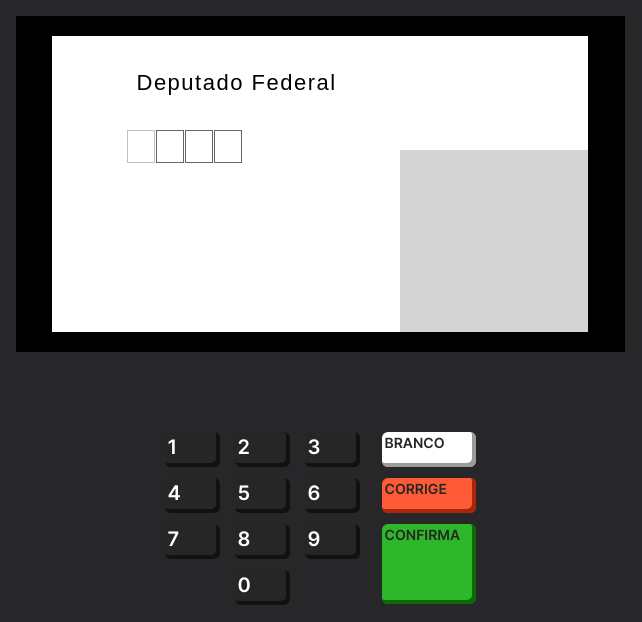
it: Special Voting Cases Tests › Should correct a vote
Click the button with test id "blank-vote-button" at (429, 450), box [382,432,476,467]
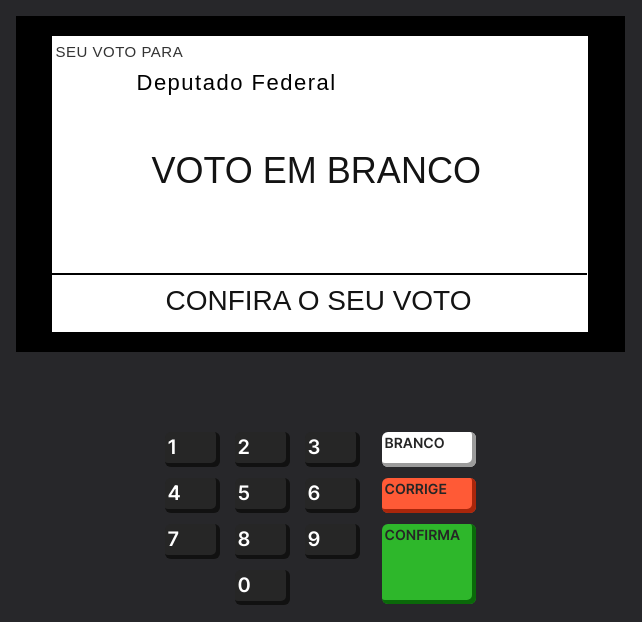
Expected: the text with test id "blank-vote-label" reads "VOTO EM BRANCO", [152,144,481,198]
Click the button with test id "correct-vote-button" at (429, 496), box [382,478,476,513]
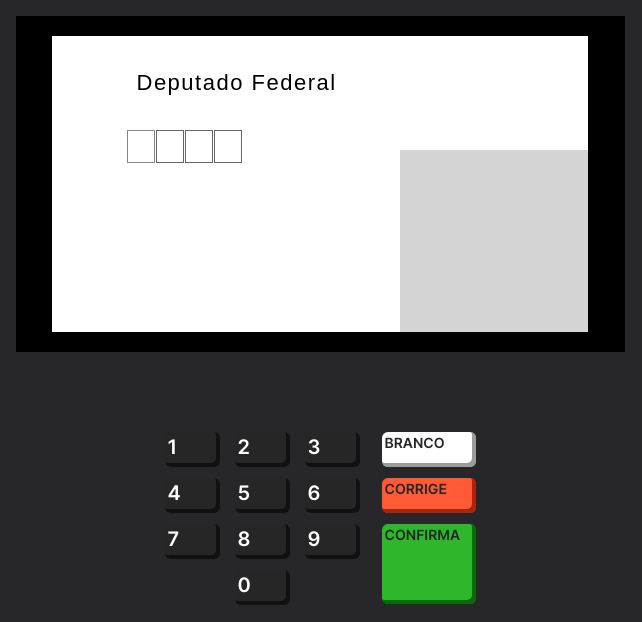
Expected: the text with test id "blank-vote-label" is gone
